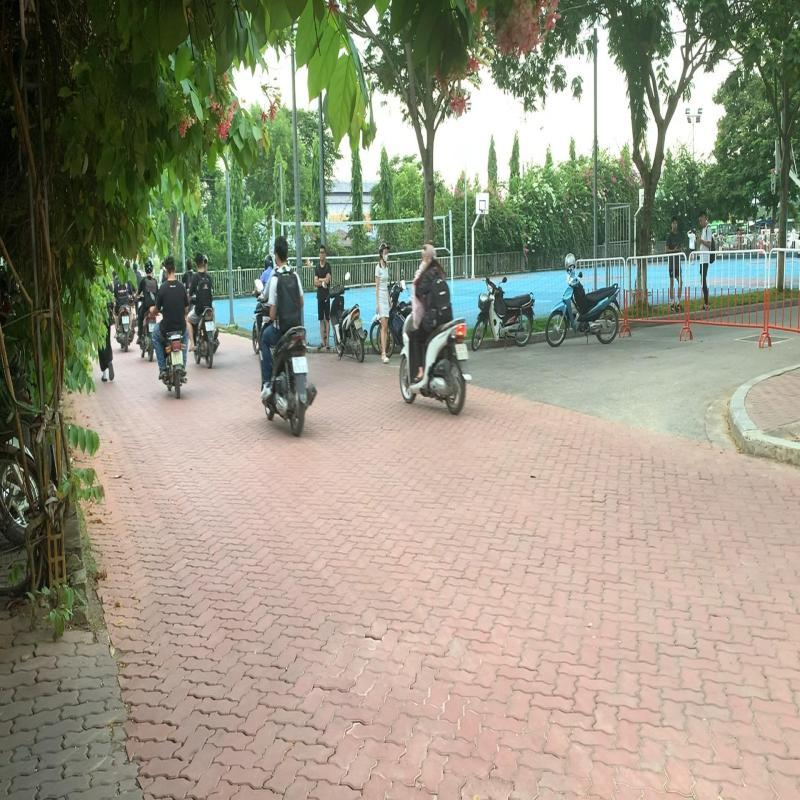nohelmet: (274, 236, 288, 263), (164, 255, 178, 278)
